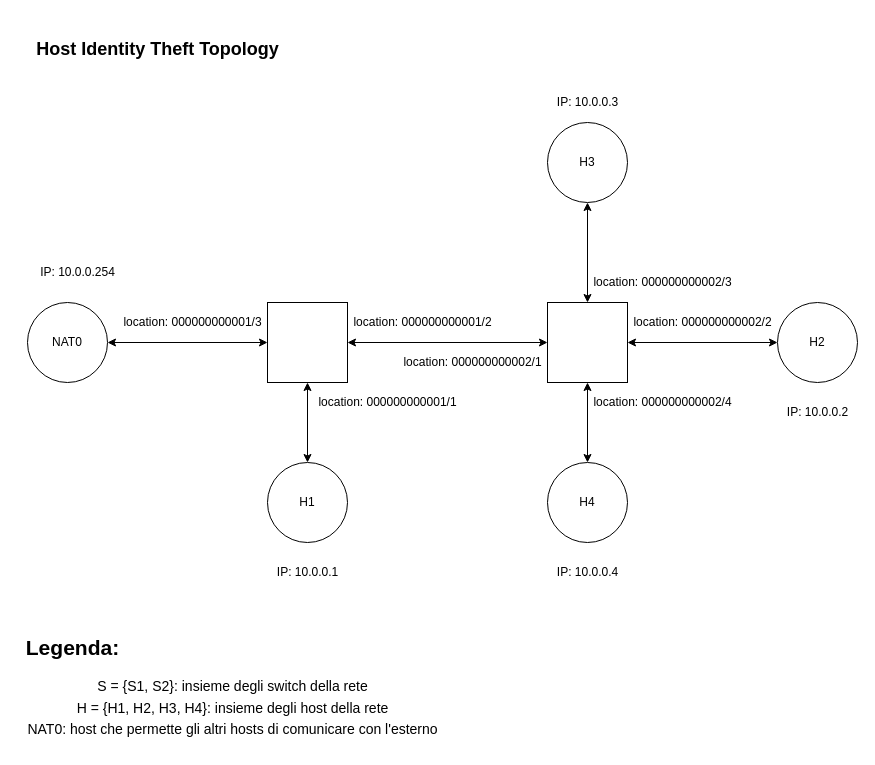
The diagram is 875 pixels wide and 765 high, and some of its shapes have lost their labels. Here are the shapes that lost their labels. From the top down, the centre of each, then its label:
At point 307,342: "S1".
At point 587,342: "S2".
